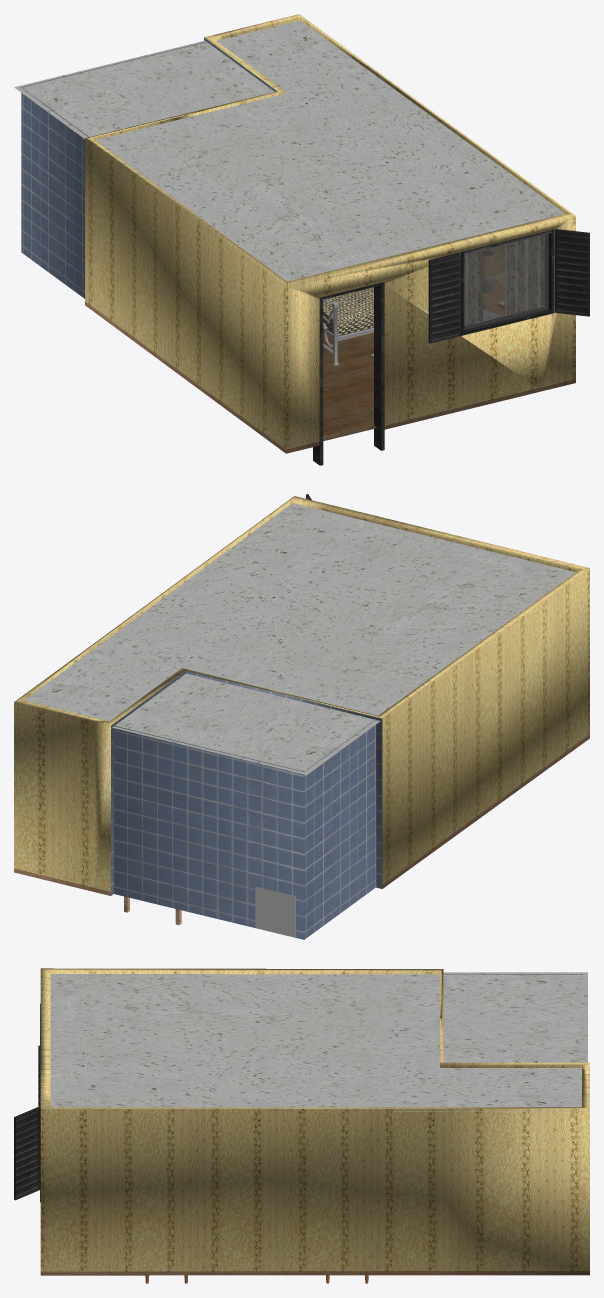
The model's file is menu.glb.
3 views of the same model, one above another, from view 1: azimuth 30°, elevation 25°; view 2: azimuth 150°, elevation 25°; view 3: azimuth 270°, elevation 25° (orthographic). The views are drawn at different scales.
Parts seen in each view (by area): view 1: Plane, walls, House_Demo_040.003, Mesh_02, House_Demo_040.001, Curtain_01.001, House_Demo_019.001, Door_frame_008.001, House_Demo_018.001, bed_02, House_Demo_010.001; view 2: Plane, walls, House_Demo_040.003, bathtub; view 3: walls, Plane, House_Demo_019.001.
Boxes of the visible parts, x1,y1,x2,y2 form: Plane: (14,20,564,281); walls: (85,14,575,453); House_Demo_040.003: (21,37,276,298); Mesh_02: (464,233,548,329); House_Demo_040.001: (323,332,376,440); Curtain_01.001: (464,235,544,325); House_Demo_019.001: (554,229,589,316); Door_frame_008.001: (313,282,384,465); House_Demo_018.001: (428,252,460,343); bed_02: (323,248,490,365); House_Demo_010.001: (461,229,554,335); Plane: (24,503,575,774); walls: (14,496,589,895); House_Demo_040.003: (111,671,382,939); bathtub: (255,886,295,937); walls: (40,968,589,1275); Plane: (50,972,587,1111); House_Demo_019.001: (14,1106,40,1200).
Size of the model in its own units: 4.71 by 3.04 by 8.11.
44 materials, 43 textured.
